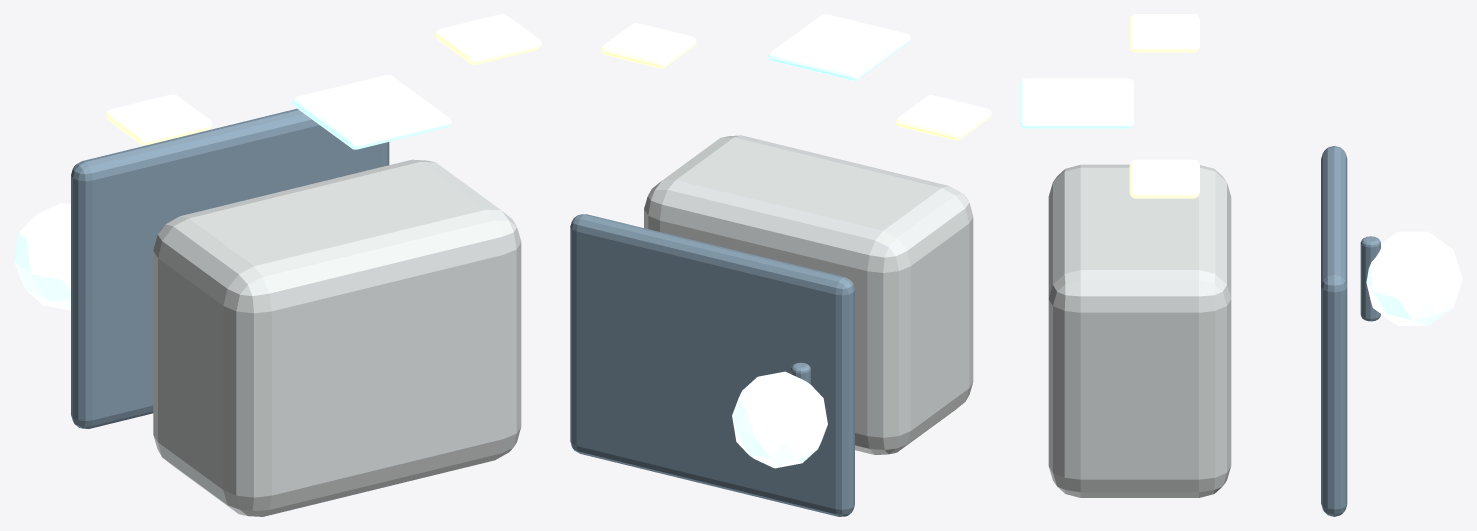
File: struct_lab_l1.fbx
The picture shows the model from 3 angles, left to right: view 1: azimuth 30°, elevation 25°; view 2: azimuth 150°, elevation 25°; view 3: azimuth 270°, elevation 25°; orthographic projection. The views are drawn at different scales.
Visible parts, largest first — view 1: struct_lab_l1_corpo, struct_lab_l1_cobertura, struct_lab_l1_porta, struct_lab_l1, struct_lab_l1_antena; view 2: struct_lab_l1_cobertura, struct_lab_l1_corpo, struct_lab_l1_antena, struct_lab_l1_porta, struct_lab_l1; view 3: struct_lab_l1_corpo, struct_lab_l1_cobertura, struct_lab_l1_antena, struct_lab_l1_porta, struct_lab_l1, struct_lab_l1_mastro.
Part boxes in pixels (box(x1,y1,x2,y2)): struct_lab_l1_corpo: box(153, 159, 521, 516); struct_lab_l1_cobertura: box(71, 108, 389, 428); struct_lab_l1_porta: box(292, 74, 451, 149); struct_lab_l1: box(105, 14, 541, 145); struct_lab_l1_antena: box(14, 203, 70, 310); struct_lab_l1_cobertura: box(570, 214, 854, 516); struct_lab_l1_corpo: box(644, 135, 973, 454); struct_lab_l1_antena: box(732, 371, 827, 468); struct_lab_l1_porta: box(768, 14, 910, 80); struct_lab_l1: box(601, 23, 991, 140); struct_lab_l1_corpo: box(1048, 164, 1231, 497); struct_lab_l1_cobertura: box(1321, 146, 1347, 516); struct_lab_l1_antena: box(1366, 231, 1462, 325); struct_lab_l1_porta: box(1020, 78, 1133, 128); struct_lab_l1: box(1129, 14, 1199, 198); struct_lab_l1_mastro: box(1360, 236, 1380, 321).
Bounding box in the file's own units: 288 × 267 × 303.
